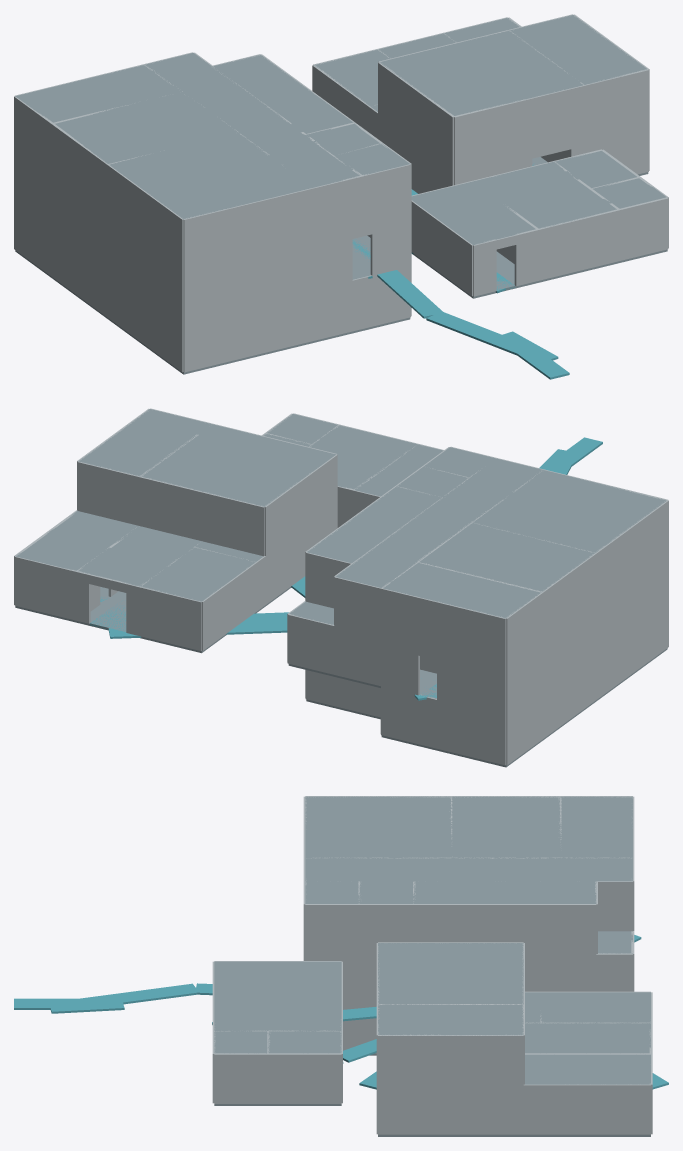
File: rough-shell.glb
3 renders of one model, top to bottom at view 1: azimuth 30°, elevation 25°; view 2: azimuth 150°, elevation 25°; view 3: azimuth 270°, elevation 25°, orthographic. The views are drawn at different scales.
Visible parts, largest first — view 1: Ceiling cap parents, Ceiling cap hayloft, Ceiling cap upper-hall, Ceiling cap children, Wall hayloft S, Wall root-store W, Wall parents S, Wall parlour S, Wall root-store S, Ceiling cap loft-landing, Ceiling cap linen, Ceiling cap upper-stair (+44 smaller); view 2: Ceiling cap hayloft, Ceiling cap parents, Ceiling cap upper-hall, Ceiling cap children, Wall hayloft N, Wall linen N, Wall root-store W, Wall preserves N, Wall cleaner N, Ceiling cap loft-landing, Ceiling cap linen, Ceiling cap upper-stair (+41 smaller); view 3: Ceiling cap parents, Ceiling cap hayloft, Wall upper-stair E, Ceiling cap upper-hall, Wall loft-landing E, Wall loft-stair E, Ceiling cap children, Wall equipment E, Ceiling cap linen, Ceiling cap loft-landing, Ceiling cap upper-stair, Wall parts E (+28 smaller).
Boxes of the visible parts, x1,y1,x2,y2 form: Ceiling cap parents: [109, 133, 312, 219]; Ceiling cap hayloft: [379, 30, 582, 115]; Ceiling cap upper-hall: [145, 53, 360, 187]; Ceiling cap children: [55, 92, 237, 163]; Wall hayloft S: [453, 85, 584, 168]; Wall root-store W: [51, 226, 183, 372]; Wall parents S: [183, 188, 313, 270]; Wall parlour S: [183, 239, 313, 321]; Wall root-store S: [183, 290, 313, 372]; Ceiling cap loft-landing: [509, 15, 646, 84]; Ceiling cap linen: [15, 65, 181, 122]; Ceiling cap upper-stair: [212, 54, 353, 133]; Ceiling cap hayloft: [141, 424, 335, 506]; Ceiling cap parents: [472, 470, 666, 552]; Ceiling cap upper-hall: [335, 458, 542, 587]; Ceiling cap children: [419, 523, 594, 591]; Wall hayloft N: [139, 476, 264, 556]; Wall linen N: [381, 588, 506, 667]; Wall root-store W: [543, 598, 668, 738]; Wall preserves N: [381, 686, 506, 765]; Wall cleaner N: [287, 614, 380, 686]; Ceiling cap loft-landing: [78, 409, 211, 476]; Ceiling cap linen: [383, 562, 541, 618]; Ceiling cap upper-stair: [307, 486, 441, 563]; Ceiling cap parents: [305, 796, 450, 858]; Ceiling cap hayloft: [378, 943, 523, 1004]; Wall upper-stair E: [414, 904, 596, 954]; Ceiling cap upper-hall: [305, 858, 632, 881]; Wall loft-landing E: [378, 1034, 523, 1085]; Wall loft-stair E: [378, 1085, 523, 1134]; Ceiling cap children: [451, 796, 559, 858]; Wall equipment E: [523, 1084, 650, 1134]; Ceiling cap linen: [560, 796, 632, 858]; Ceiling cap loft-landing: [378, 1004, 523, 1035]; Ceiling cap upper-stair: [414, 881, 596, 903]; Wall parts E: [268, 1053, 341, 1103].
Size of the model in its own units: 31.16 by 9.16 by 35.99.
